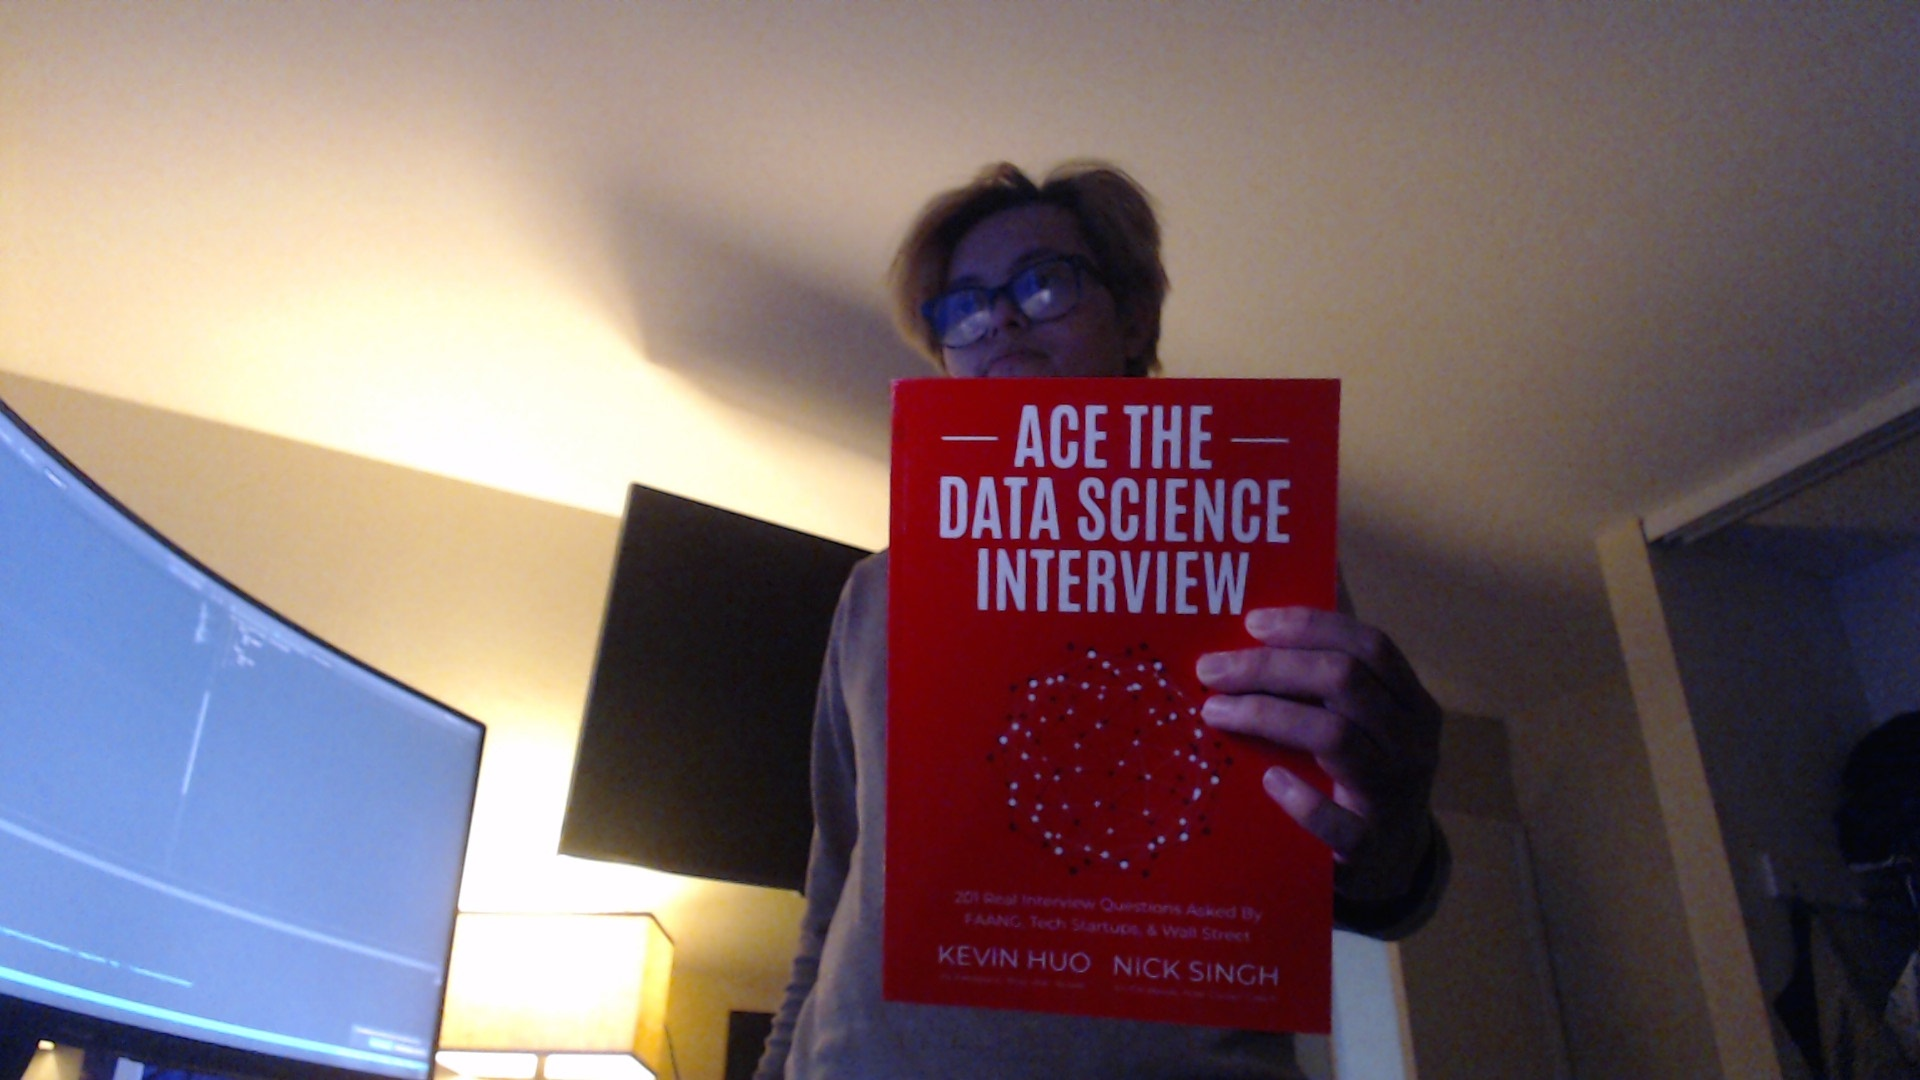book: (884, 367, 1340, 1043)
